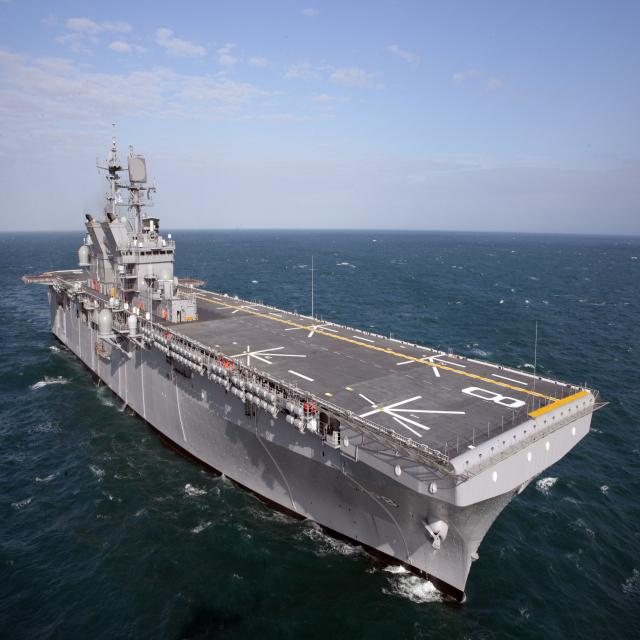navalvessels: (51, 134, 599, 593)
